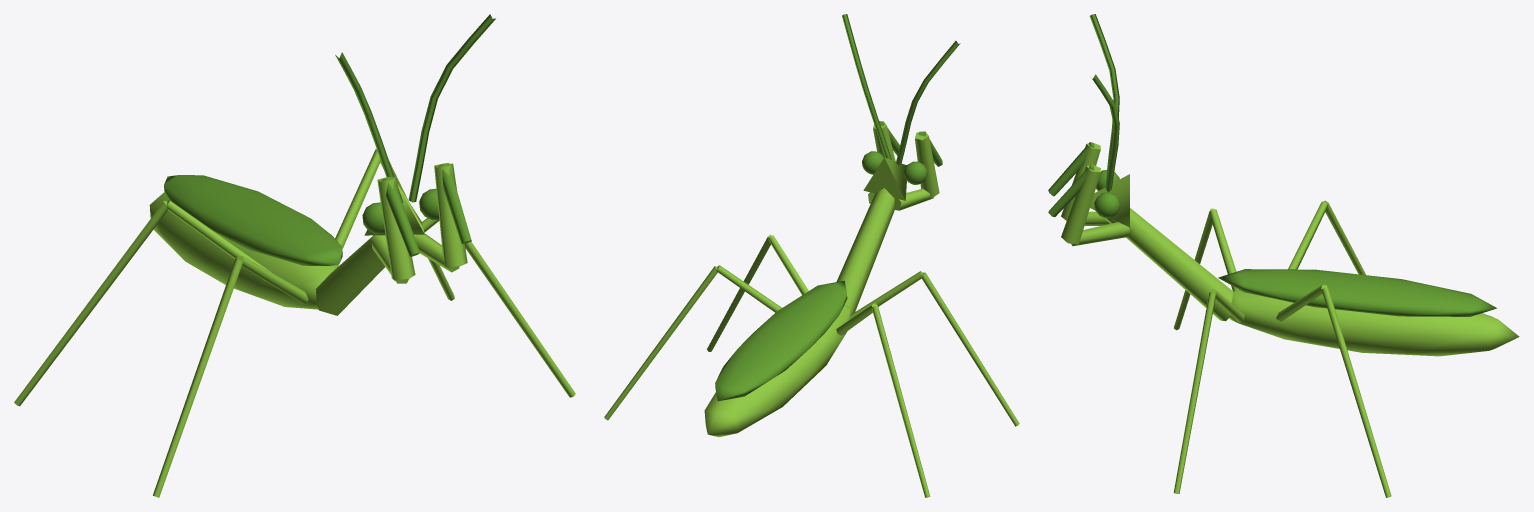
File: mantis.glb
3 renders of one model, left to right at view 1: azimuth 30°, elevation 25°; view 2: azimuth 150°, elevation 25°; view 3: azimuth 270°, elevation 25°, orthographic. The views are drawn at different scales.
Parts seen in each view (by area): view 1: mantis; view 2: mantis; view 3: mantis.
Part boxes in pixels (left/top/right/bottom): mantis: left=14, top=14, right=575, bottom=497; mantis: left=604, top=14, right=1019, bottom=497; mantis: left=1048, top=14, right=1519, bottom=497.
Size of the model in its own units: 5.59 by 5.48 by 6.36.
